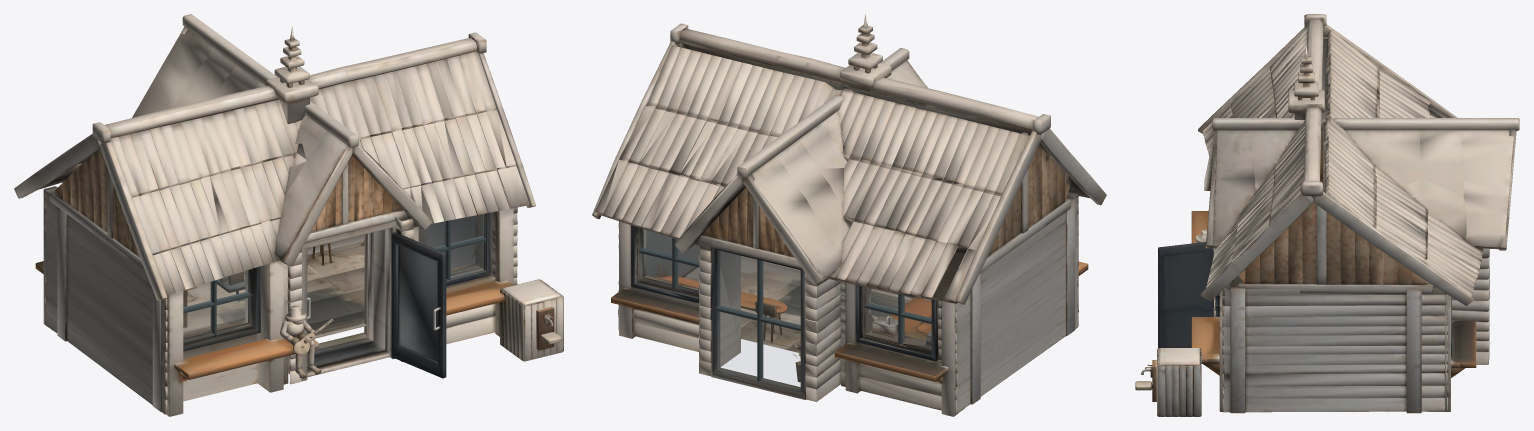
Rendered from coffee-cabin.glb.
The picture shows the model from 3 angles, left to right: view 1: azimuth 30°, elevation 25°; view 2: azimuth 150°, elevation 25°; view 3: azimuth 270°, elevation 25°; orthographic projection. The views are drawn at different scales.
Visible parts, largest first — view 1: cabin, Window_Glass_Front_Left, Window_Glass_Front_Right; view 2: cabin, Window_Glass_Rear_Tall, Window_Glass_Rear_Left, Window_Glass_Rear_Right, Window_Cross_Rear_Tall_Vertical, Window_Cross_Rear_Tall_Horizontal; view 3: cabin.
Part boxes in pixels (x1=…): cabin: x1=14, y1=14, x2=563, y2=416; Window_Glass_Front_Left: x1=184, y1=270, x2=248, y2=338; Window_Glass_Front_Right: x1=419, y1=214, x2=483, y2=276; cabin: x1=592, y1=14, x2=1106, y2=416; Window_Glass_Rear_Tall: x1=718, y1=251, x2=799, y2=388; Window_Glass_Rear_Left: x1=867, y1=288, x2=930, y2=348; Window_Glass_Rear_Right: x1=642, y1=229, x2=698, y2=291; Window_Cross_Rear_Tall_Vertical: x1=757, y1=260, x2=763, y2=380; Window_Cross_Rear_Tall_Horizontal: x1=716, y1=305, x2=800, y2=330; cabin: x1=1135, y1=14, x2=1519, y2=416.
Bounding box in the file's own units: 0.9995 × 0.7847 × 0.9487.
5 materials, 1 textured.
